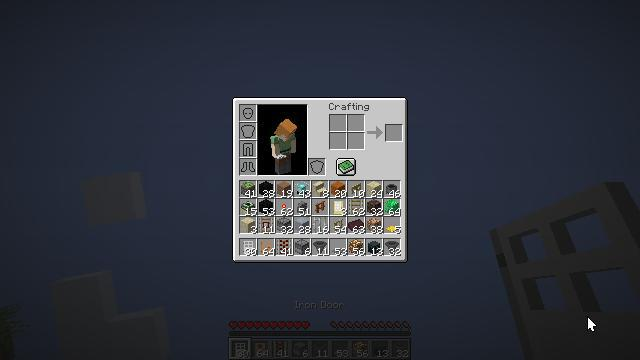cursor: (587, 316, 597, 332)
